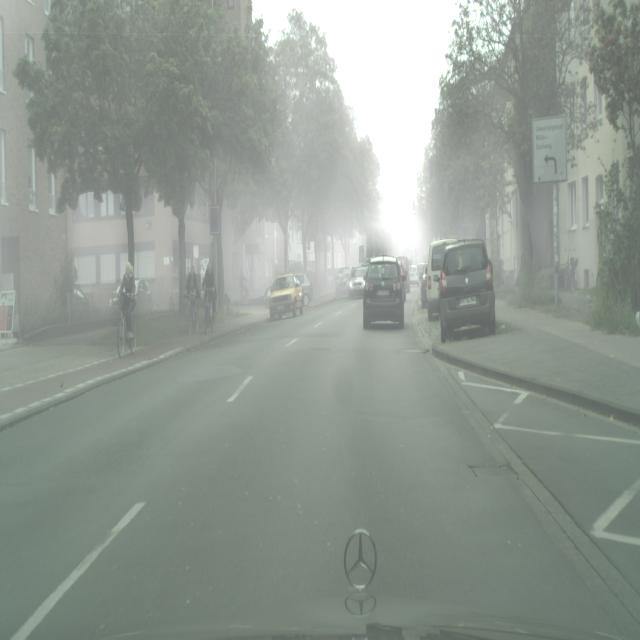bus: (438, 239, 495, 342), (362, 256, 405, 329), (424, 236, 459, 320), (267, 273, 303, 321), (294, 272, 313, 308), (335, 267, 355, 299), (397, 256, 410, 296), (348, 274, 366, 299), (417, 262, 428, 286)
car: (117, 261, 136, 357), (186, 267, 199, 334), (203, 262, 215, 333)
